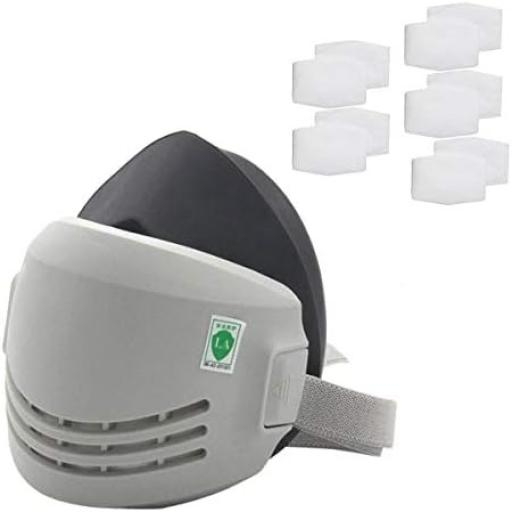mask: (0, 210, 321, 511)
